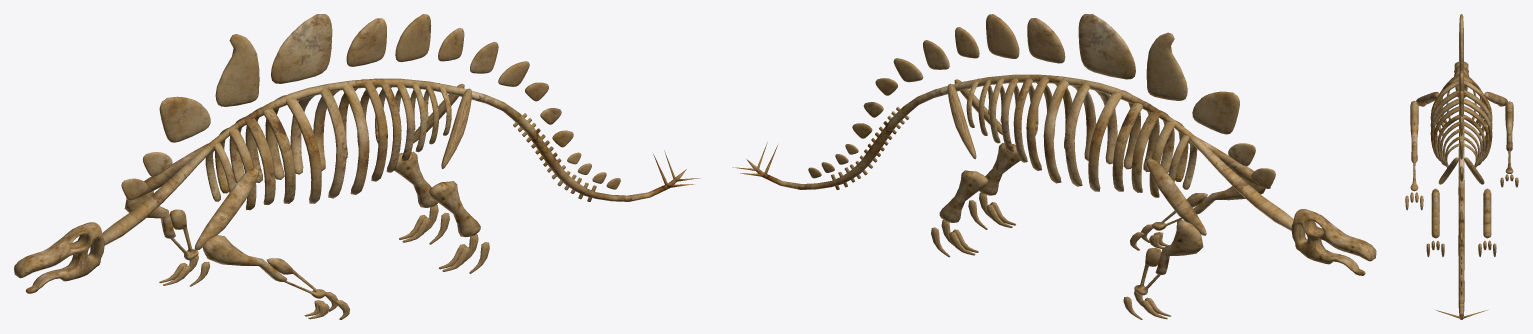
Rendered from simple_stegosaurus_skeleton.glb.
3 renders of one model, left to right at view 1: azimuth 30°, elevation 25°; view 2: azimuth 150°, elevation 25°; view 3: azimuth 270°, elevation 25°, orthographic. The views are drawn at different scales.
Parts seen in each view (by area): view 1: Spine_02 - Default_0, Ribs_02 - Default_0, Head, Left Forearm_02 - Default_0, Left Arm_02 - Default_0, Right Forearm_02 - Default_0, Left Foot_02 - Default_0, Right Foot_02 - Default_0, Left Leg_02 - Default_0, Left Toes_02 - Default_0, Right Toes_02 - Default_0, Right Arm_02 - Default_0 (+2 smaller); view 2: Spine_02 - Default_0, Ribs_02 - Default_0, Head, Right Forearm_02 - Default_0, Right Arm_02 - Default_0, Right Foot_02 - Default_0, Left Forearm_02 - Default_0, Left Foot_02 - Default_0, Right Leg_02 - Default_0, Left Toes_02 - Default_0, Right Toes_02 - Default_0, Left Arm_02 - Default_0 (+2 smaller); view 3: Ribs_02 - Default_0, Spine_02 - Default_0, Left Forearm_02 - Default_0, Right Forearm_02 - Default_0, Right Foot_02 - Default_0, Left Foot_02 - Default_0, Right Arm_02 - Default_0, Left Arm_02 - Default_0, Right Leg_02 - Default_0, Left Leg_02 - Default_0, Left Fingers_02 - Default_0, Head (+3 smaller).
Part boxes in pixels (x1,y1,x2,y2): Spine_02 - Default_0: [102, 14, 700, 245]; Ribs_02 - Default_0: [205, 79, 451, 210]; Head: [14, 222, 104, 293]; Left Forearm_02 - Default_0: [203, 235, 326, 298]; Left Arm_02 - Default_0: [194, 168, 258, 250]; Right Forearm_02 - Default_0: [124, 191, 198, 260]; Left Foot_02 - Default_0: [429, 181, 480, 237]; Right Foot_02 - Default_0: [394, 151, 437, 207]; Left Leg_02 - Default_0: [441, 88, 472, 168]; Left Toes_02 - Default_0: [439, 234, 489, 273]; Right Toes_02 - Default_0: [399, 205, 449, 244]; Right Arm_02 - Default_0: [126, 143, 214, 200]; Spine_02 - Default_0: [732, 14, 1293, 230]; Ribs_02 - Default_0: [966, 75, 1197, 197]; Head: [1291, 209, 1376, 275]; Right Forearm_02 - Default_0: [1134, 220, 1203, 295]; Right Arm_02 - Default_0: [1146, 159, 1206, 235]; Right Foot_02 - Default_0: [939, 170, 987, 222]; Left Forearm_02 - Default_0: [1152, 178, 1265, 230]; Left Foot_02 - Default_0: [979, 143, 1020, 195]; Right Leg_02 - Default_0: [947, 83, 976, 159]; Left Toes_02 - Default_0: [968, 192, 1015, 229]; Right Toes_02 - Default_0: [931, 220, 978, 257]; Left Arm_02 - Default_0: [1188, 136, 1270, 188]; Ribs_02 - Default_0: [1430, 74, 1492, 167]; Spine_02 - Default_0: [1436, 14, 1488, 319]; Left Forearm_02 - Default_0: [1410, 100, 1418, 191]; Right Forearm_02 - Default_0: [1505, 101, 1513, 173]; Right Foot_02 - Default_0: [1483, 188, 1491, 238]; Left Foot_02 - Default_0: [1431, 188, 1439, 238]; Right Arm_02 - Default_0: [1484, 91, 1507, 106]; Left Arm_02 - Default_0: [1416, 91, 1439, 106]; Right Leg_02 - Default_0: [1464, 157, 1484, 184]; Left Leg_02 - Default_0: [1438, 157, 1458, 184]; Left Fingers_02 - Default_0: [1405, 192, 1423, 210]; Head: [1454, 61, 1468, 97].
Bounding box in the file's own units: 173 × 67.23 × 39.16.
Materials: 1 (1 with a texture image).
